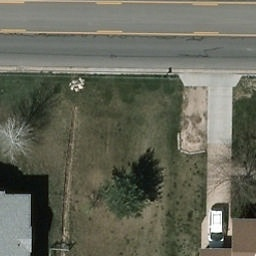car: (207, 207, 226, 249)
